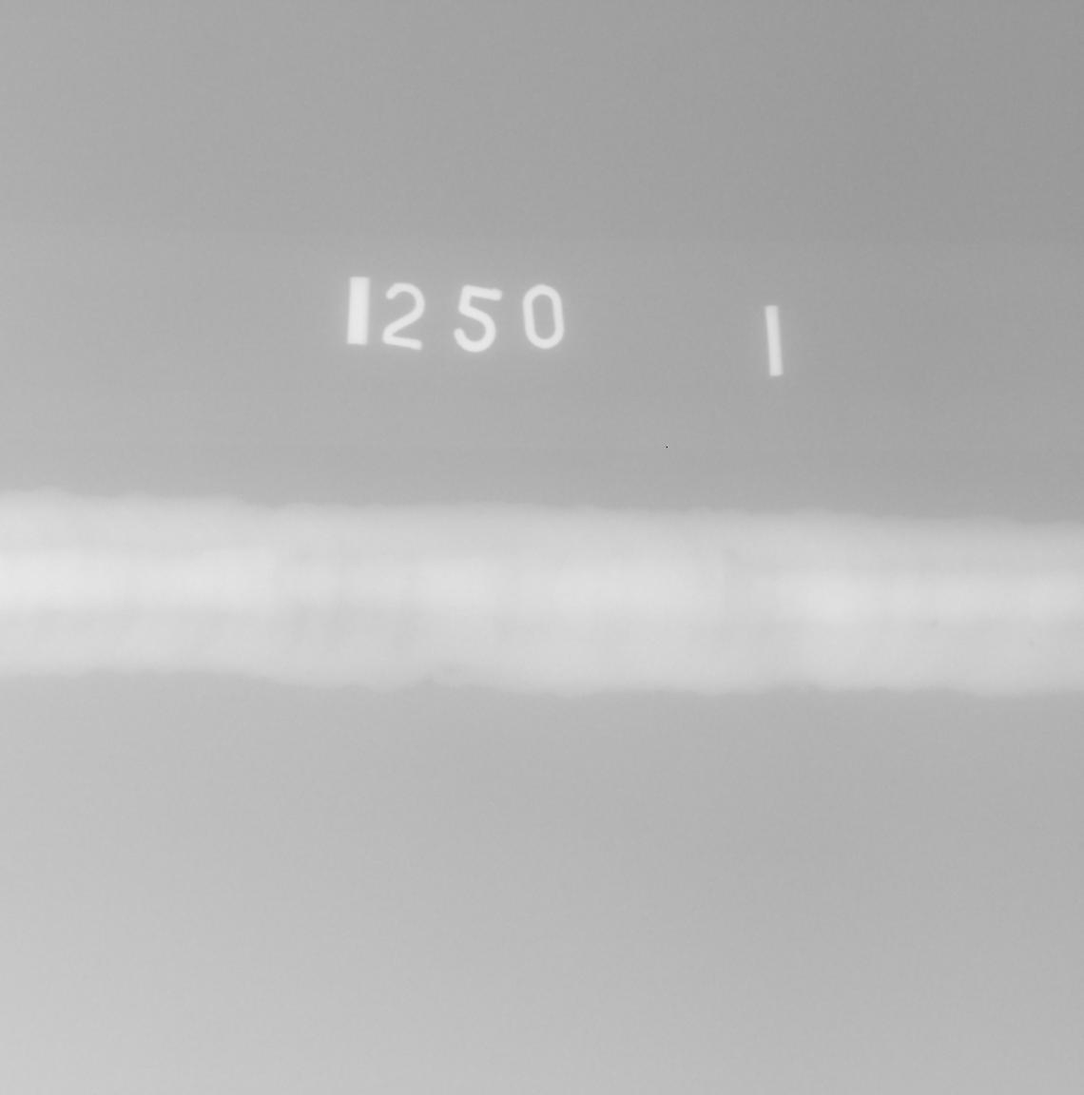Pore/Porosity: (926, 618, 940, 630), (1029, 642, 1033, 645)
